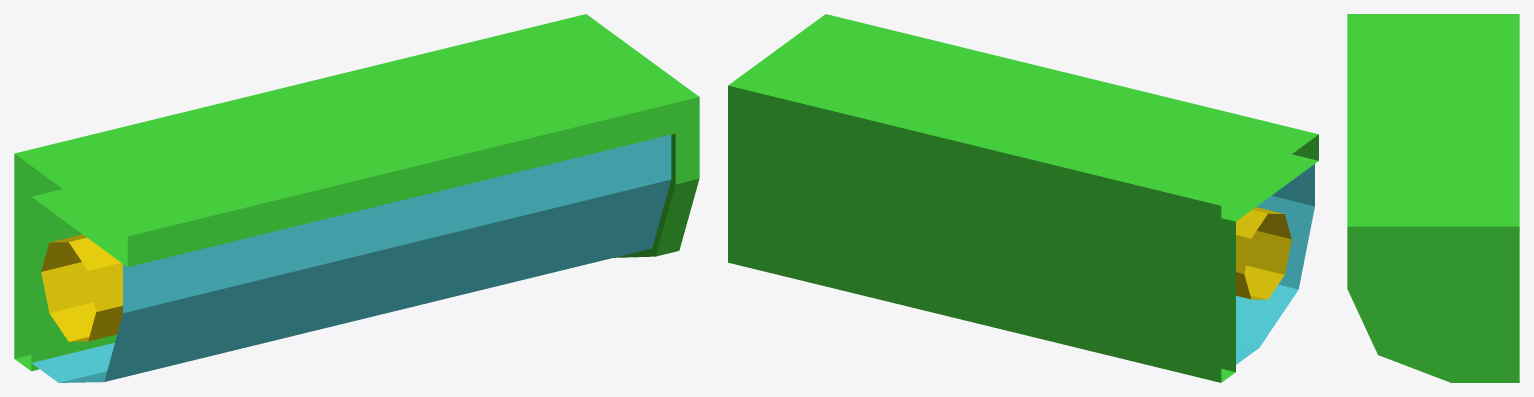
The model's file is Lamp_08_Edge.fbx.
The picture shows the model from 3 angles, left to right: view 1: azimuth 30°, elevation 25°; view 2: azimuth 150°, elevation 25°; view 3: azimuth 270°, elevation 25°; orthographic projection. The views are drawn at different scales.
Visible parts, largest first — view 1: Lamp_08_Edge; view 2: Lamp_08_Edge; view 3: Lamp_08_Edge.
Boxes of the visible parts, <box> form: Lamp_08_Edge: <box>14,14,699,382</box>; Lamp_08_Edge: <box>728,14,1318,382</box>; Lamp_08_Edge: <box>1347,14,1519,382</box>.
Bounding box in the file's own units: 45.72 × 15.69 × 15.69.
